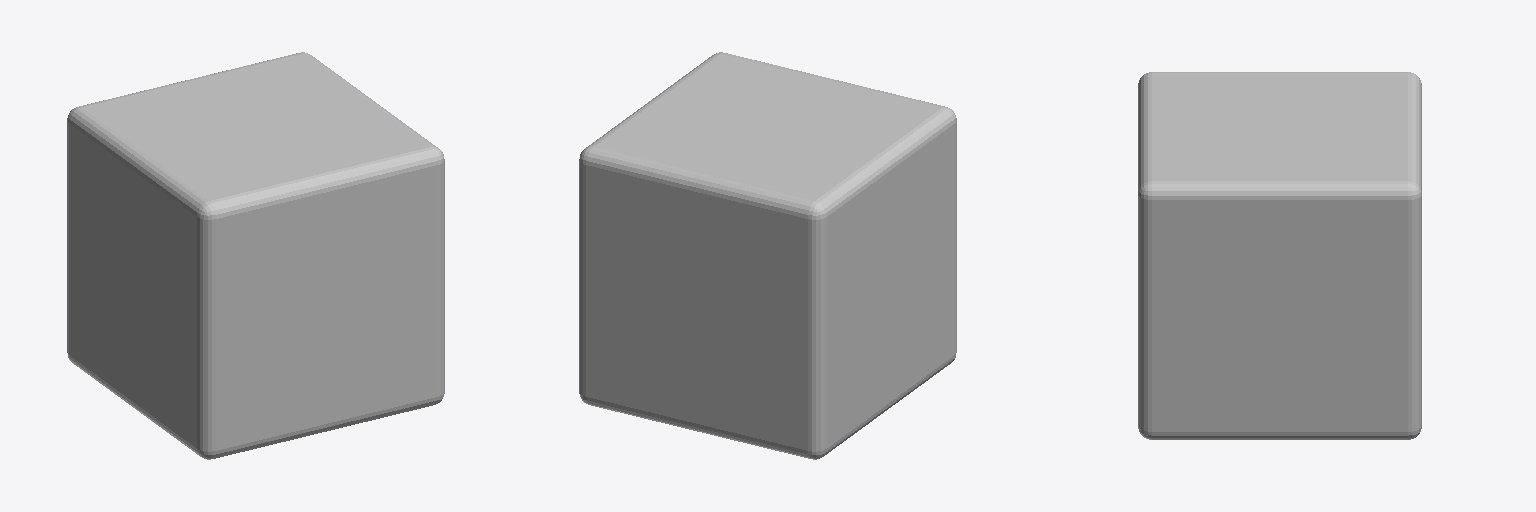
Rendered from nice_cube.obj.
3 renders of one model, left to right at view 1: azimuth 30°, elevation 25°; view 2: azimuth 150°, elevation 25°; view 3: azimuth 270°, elevation 25°, orthographic.
Parts seen in each view (by area): view 1: Cube_Finished_Cube.001; view 2: Cube_Finished_Cube.001; view 3: Cube_Finished_Cube.001.
Part boxes in pixels (left/top/right/bottom): Cube_Finished_Cube.001: left=67, top=52, right=444, bottom=459; Cube_Finished_Cube.001: left=579, top=52, right=956, bottom=459; Cube_Finished_Cube.001: left=1138, top=72, right=1421, bottom=439.
Size of the model in its own units: 2 by 2 by 2.